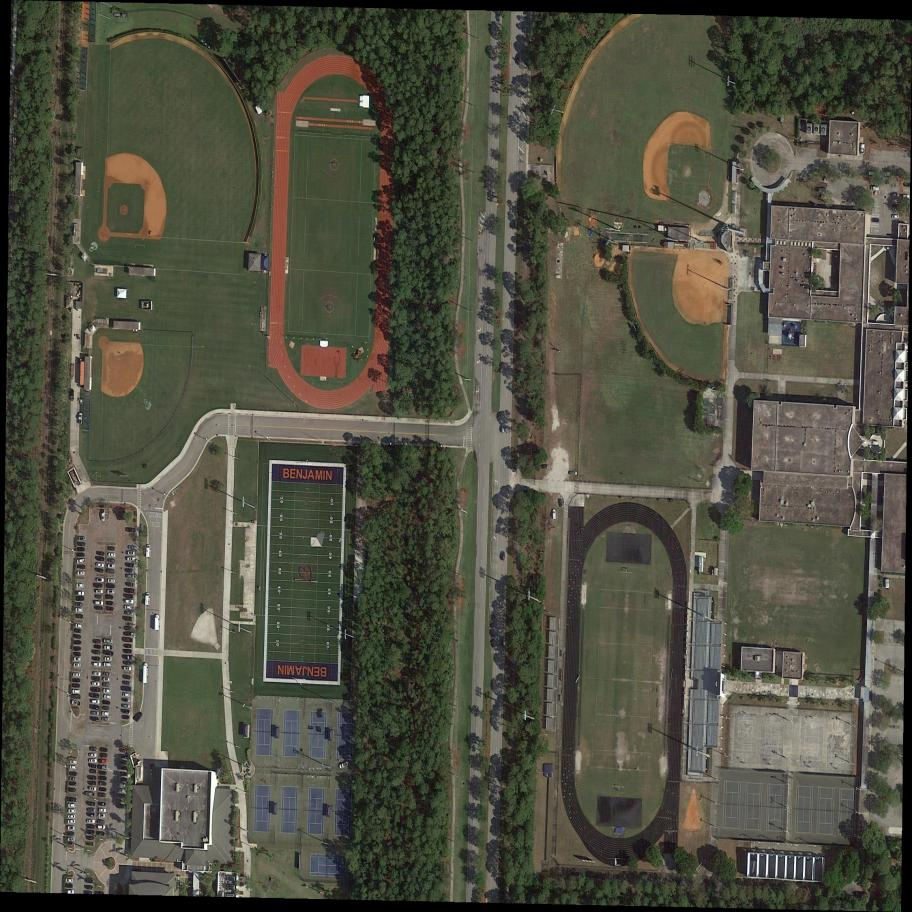large-vehicle: (154, 614, 160, 631), (144, 663, 148, 685), (145, 592, 151, 606), (146, 544, 151, 559)
small-vehicle: (339, 761, 350, 771), (84, 876, 95, 885), (134, 712, 143, 723), (121, 636, 134, 643), (102, 650, 115, 657), (87, 762, 98, 770), (70, 700, 82, 707), (89, 692, 101, 699), (66, 801, 76, 809), (66, 824, 76, 832), (106, 562, 116, 570), (98, 769, 108, 777), (83, 883, 94, 890), (85, 800, 96, 807), (89, 704, 100, 711), (120, 708, 131, 715), (124, 527, 136, 533), (83, 889, 95, 895), (105, 568, 115, 575), (73, 633, 83, 640), (105, 605, 115, 612), (122, 653, 132, 660), (106, 577, 116, 584), (96, 550, 106, 557), (122, 680, 132, 687), (86, 812, 96, 819), (124, 581, 135, 587), (76, 558, 87, 564), (124, 563, 135, 569), (67, 797, 78, 803), (86, 775, 97, 781), (120, 686, 131, 692), (103, 645, 114, 651), (123, 643, 132, 650), (67, 808, 76, 815), (107, 551, 116, 558), (107, 558, 116, 565), (96, 577, 105, 584), (98, 801, 107, 808), (98, 807, 107, 814), (871, 185, 880, 192), (124, 599, 134, 605), (123, 588, 135, 593), (94, 605, 104, 611), (94, 593, 104, 599), (106, 583, 116, 589), (94, 567, 104, 573), (88, 753, 98, 759), (123, 593, 133, 599), (123, 648, 133, 654), (123, 616, 133, 622), (66, 814, 76, 820), (101, 508, 105, 523), (96, 830, 106, 836), (87, 780, 97, 786), (99, 747, 109, 753), (98, 775, 108, 781), (568, 470, 578, 476), (89, 716, 99, 722), (121, 703, 131, 709), (121, 697, 131, 703), (92, 639, 102, 645), (104, 638, 114, 644), (85, 835, 95, 841), (89, 768, 97, 775), (124, 568, 135, 573), (78, 413, 83, 424), (69, 390, 74, 401), (98, 765, 109, 770), (860, 143, 865, 154), (90, 687, 101, 692), (871, 217, 880, 223), (76, 596, 85, 602), (95, 600, 104, 606), (77, 564, 86, 570), (127, 544, 136, 550), (124, 610, 133, 616), (72, 678, 81, 684), (75, 623, 84, 629), (75, 613, 84, 619), (75, 607, 84, 613), (105, 600, 114, 606), (105, 594, 114, 600), (123, 631, 132, 637), (95, 562, 104, 568), (77, 546, 86, 552), (77, 542, 86, 548), (77, 536, 86, 542), (68, 787, 77, 793), (89, 746, 98, 752), (98, 781, 107, 787), (96, 819, 105, 825), (93, 644, 102, 650), (93, 671, 102, 677), (91, 681, 100, 687), (122, 674, 131, 680), (86, 829, 95, 835), (102, 671, 111, 677), (75, 591, 85, 596), (125, 573, 135, 578), (127, 551, 137, 556), (91, 650, 101, 655), (91, 656, 101, 661), (91, 676, 101, 681), (86, 824, 96, 829), (101, 700, 111, 705), (95, 589, 103, 595), (107, 589, 115, 595), (124, 604, 132, 610), (73, 672, 81, 678), (73, 662, 81, 668), (74, 628, 82, 634), (124, 625, 132, 631), (67, 819, 75, 825), (127, 556, 135, 562), (72, 688, 80, 694), (891, 214, 899, 220), (902, 194, 910, 200), (123, 692, 131, 698), (66, 877, 74, 883), (102, 711, 110, 717), (104, 694, 112, 700), (103, 688, 111, 694), (103, 677, 111, 683), (104, 662, 112, 668), (107, 546, 116, 551), (94, 583, 103, 588), (77, 571, 86, 576), (73, 646, 82, 651), (73, 640, 82, 645), (72, 694, 81, 699), (89, 759, 98, 764), (100, 753, 109, 758), (98, 793, 107, 798), (86, 791, 95, 796), (69, 776, 78, 781), (68, 771, 77, 776), (119, 766, 128, 771), (97, 825, 106, 830), (86, 807, 95, 812), (91, 699, 100, 704), (121, 715, 130, 720), (87, 819, 96, 824), (67, 837, 76, 842), (102, 683, 111, 688), (104, 657, 113, 662), (99, 812, 105, 819), (121, 759, 128, 765), (70, 765, 77, 771), (124, 666, 131, 672), (74, 657, 82, 662), (75, 602, 83, 607), (72, 683, 80, 688), (89, 786, 97, 791), (99, 787, 107, 792), (69, 781, 77, 786), (119, 789, 127, 794), (541, 464, 549, 469), (70, 760, 78, 765), (93, 662, 101, 667), (90, 711, 100, 715), (122, 661, 132, 665), (65, 883, 73, 888), (102, 706, 110, 711), (560, 499, 564, 508), (77, 583, 84, 588), (102, 759, 109, 764), (892, 193, 899, 198), (74, 652, 82, 656), (120, 749, 128, 753), (120, 754, 128, 758), (120, 772, 128, 776), (120, 778, 128, 782), (66, 832, 74, 836), (102, 717, 110, 721), (120, 783, 126, 788), (553, 510, 556, 520), (87, 842, 94, 846), (502, 552, 505, 561), (502, 424, 505, 433), (118, 805, 124, 809), (150, 769, 152, 776)
